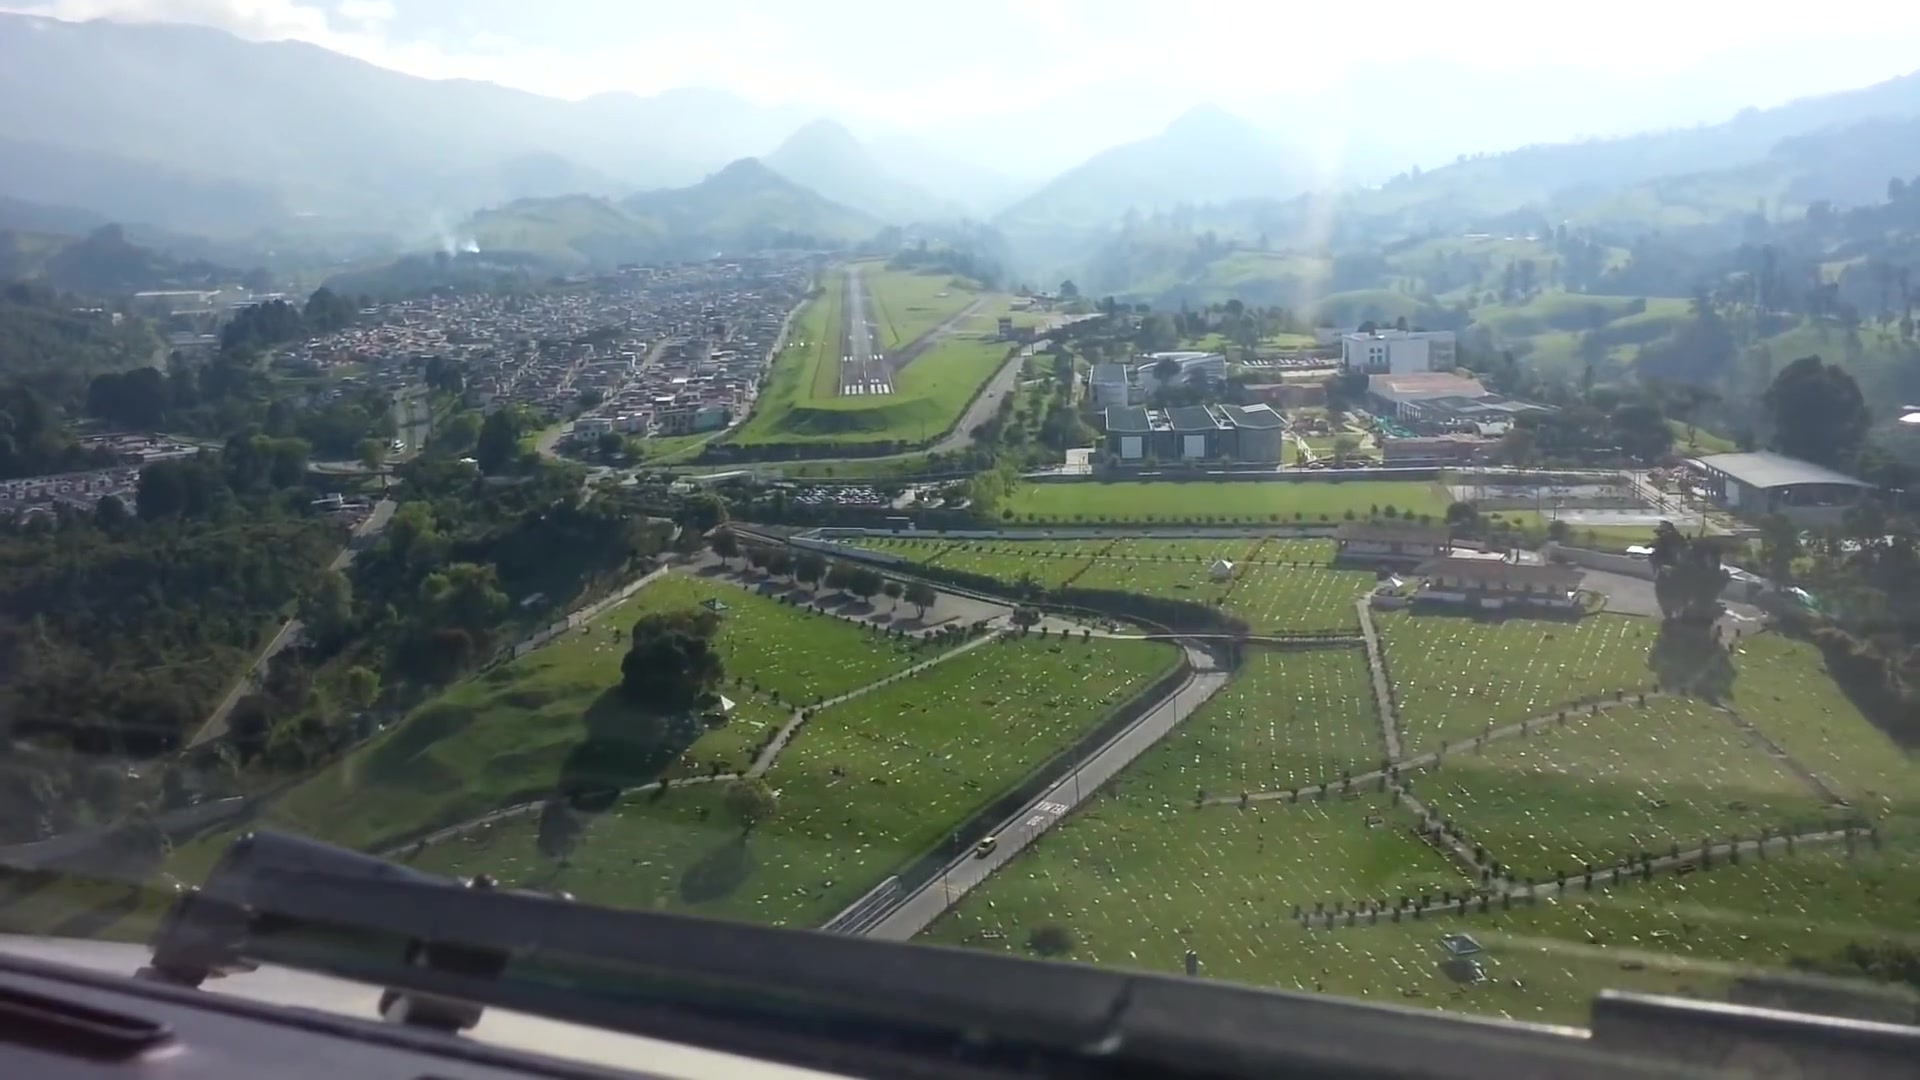entrance: (844, 382, 891, 396)
runway: (836, 277, 898, 398)
